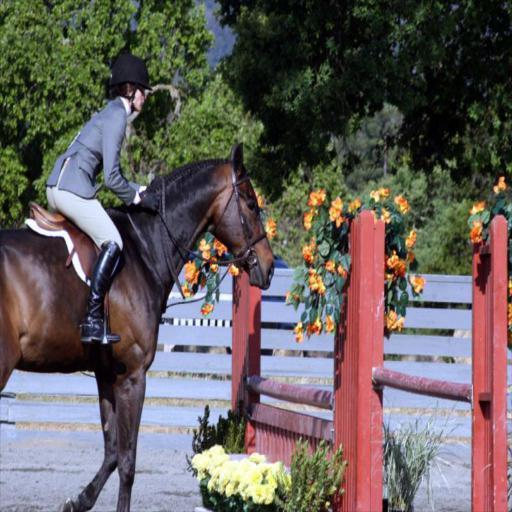horse: (0, 142, 275, 512)
